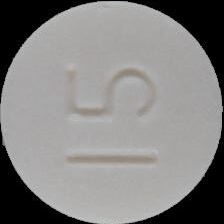16729-020: (0, 0, 224, 224)
